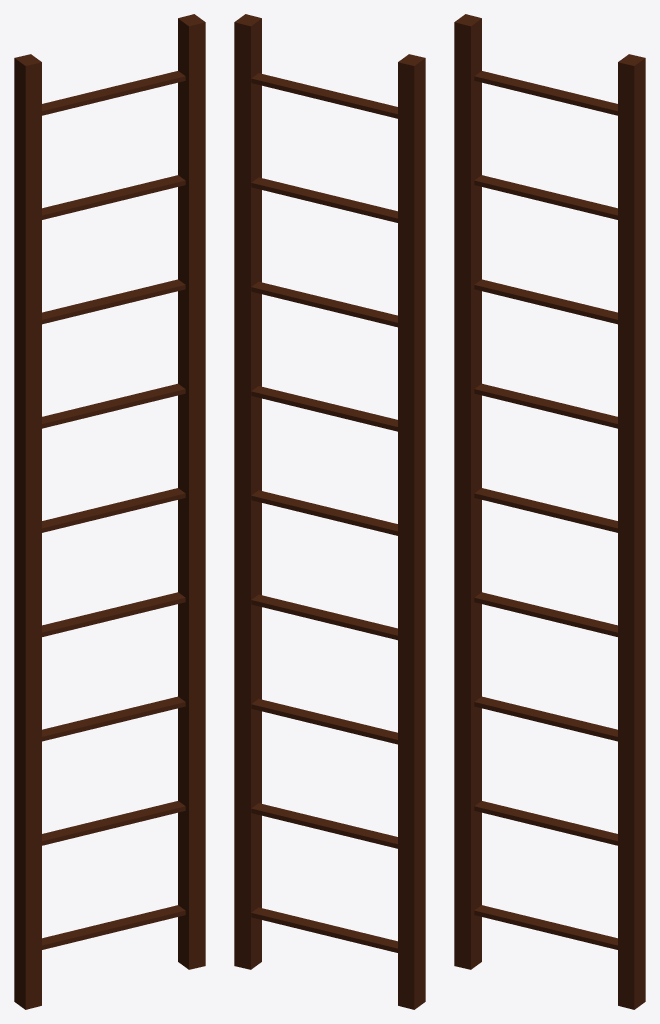
Rendered from ladder.glb.
The picture shows the model from 3 angles, left to right: view 1: azimuth 30°, elevation 25°; view 2: azimuth 150°, elevation 25°; view 3: azimuth 330°, elevation 25°; orthographic projection.
Parts seen in each view (by area): view 1: Wooden_Ladder; view 2: Wooden_Ladder; view 3: Wooden_Ladder.
Boxes of the visible parts, left/top/right/bottom form: Wooden_Ladder: left=14, top=14, right=205, bottom=1009; Wooden_Ladder: left=234, top=14, right=425, bottom=1009; Wooden_Ladder: left=454, top=14, right=645, bottom=1009.
Bounding box in the file's own units: 0.7814 × 3.92 × 0.084.
